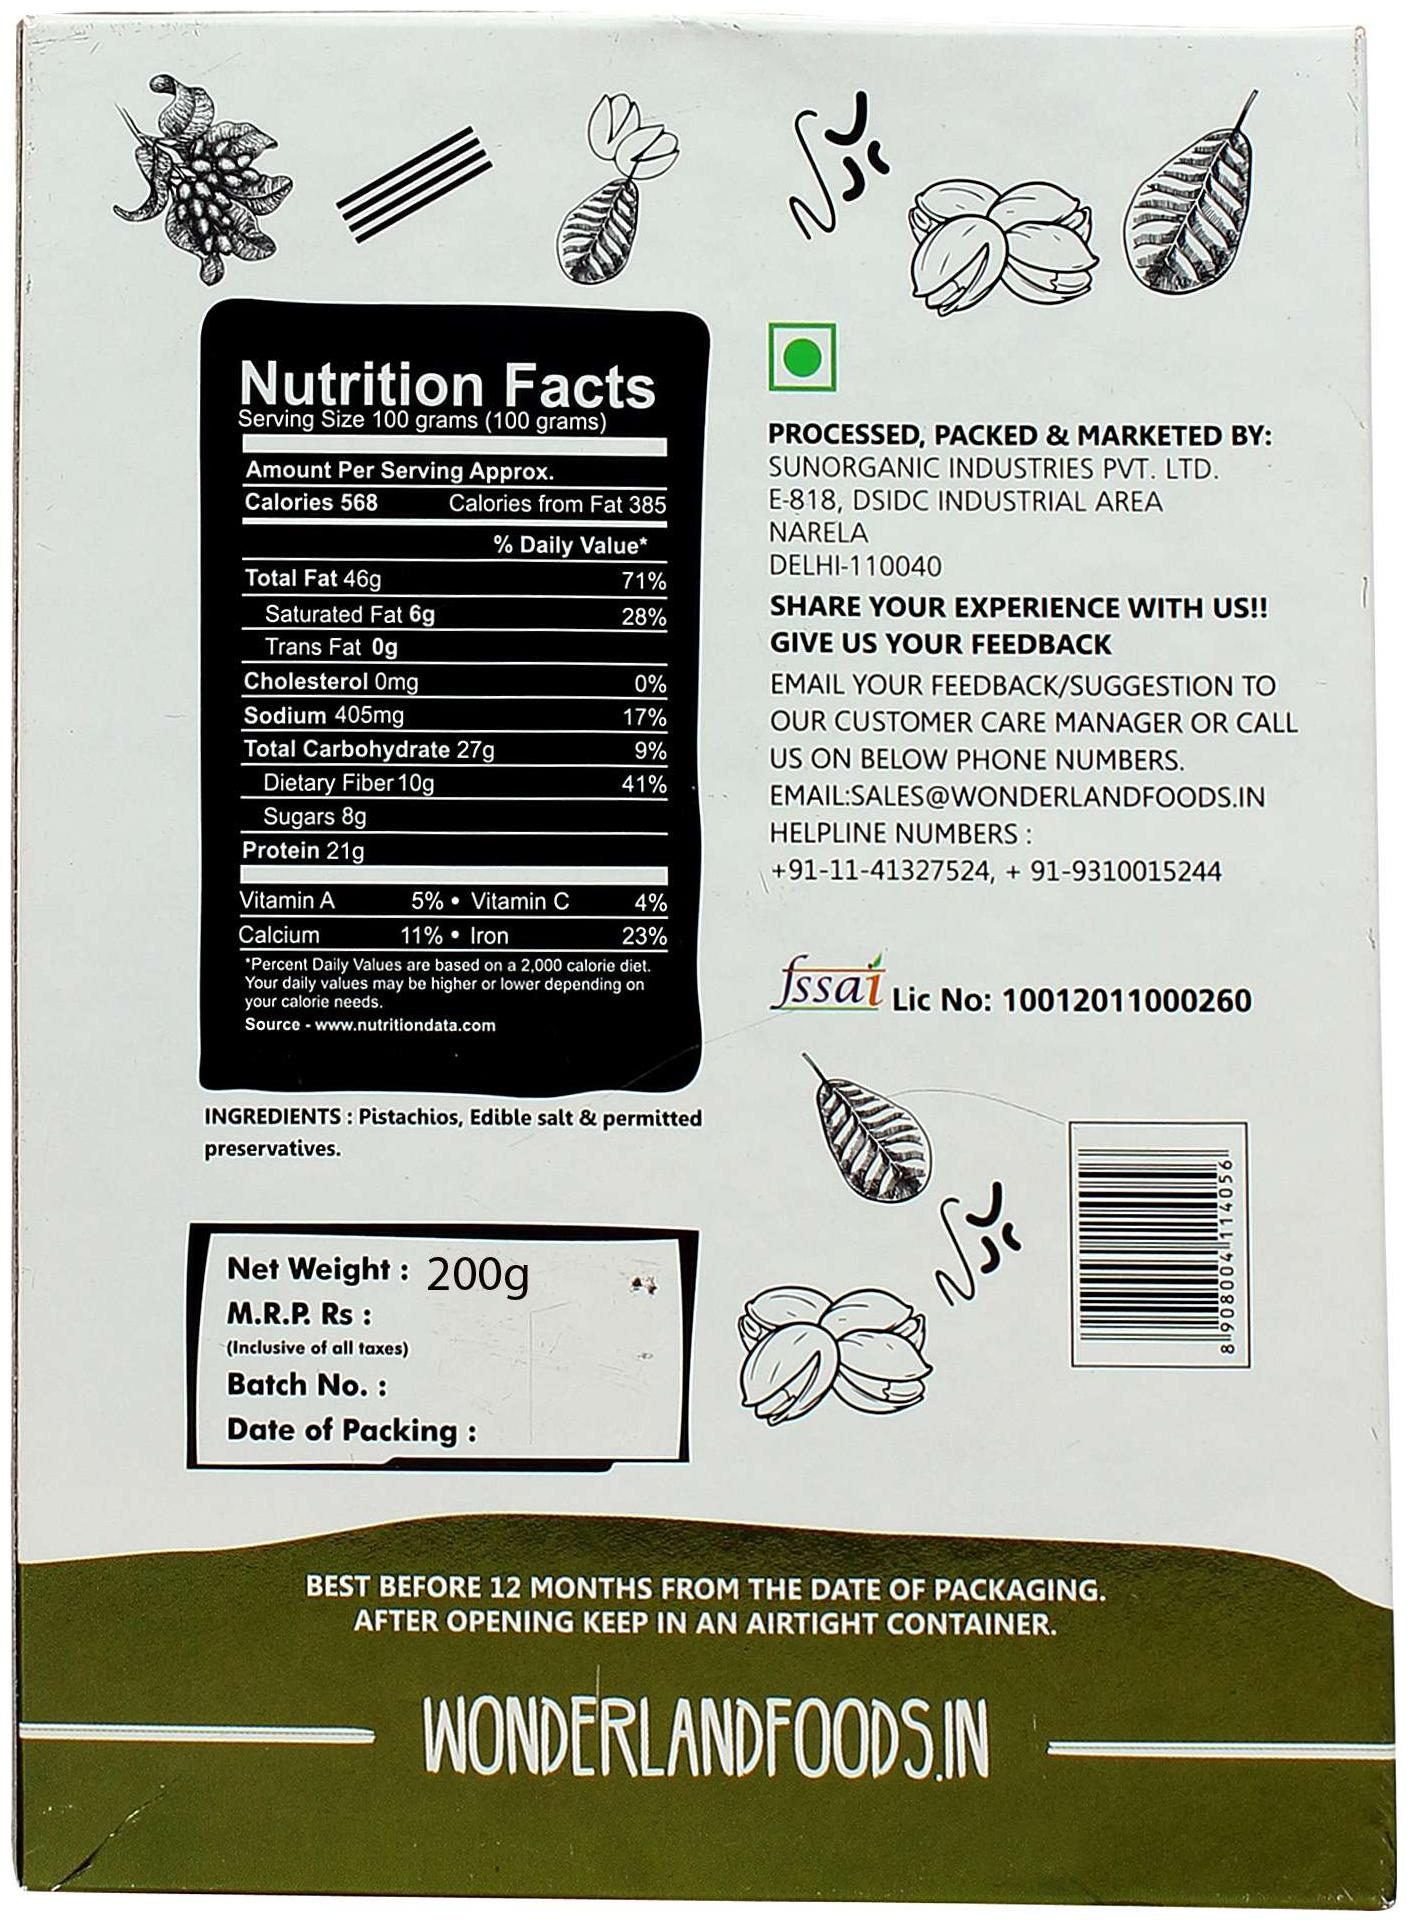fssai: (768, 950, 886, 1013)
